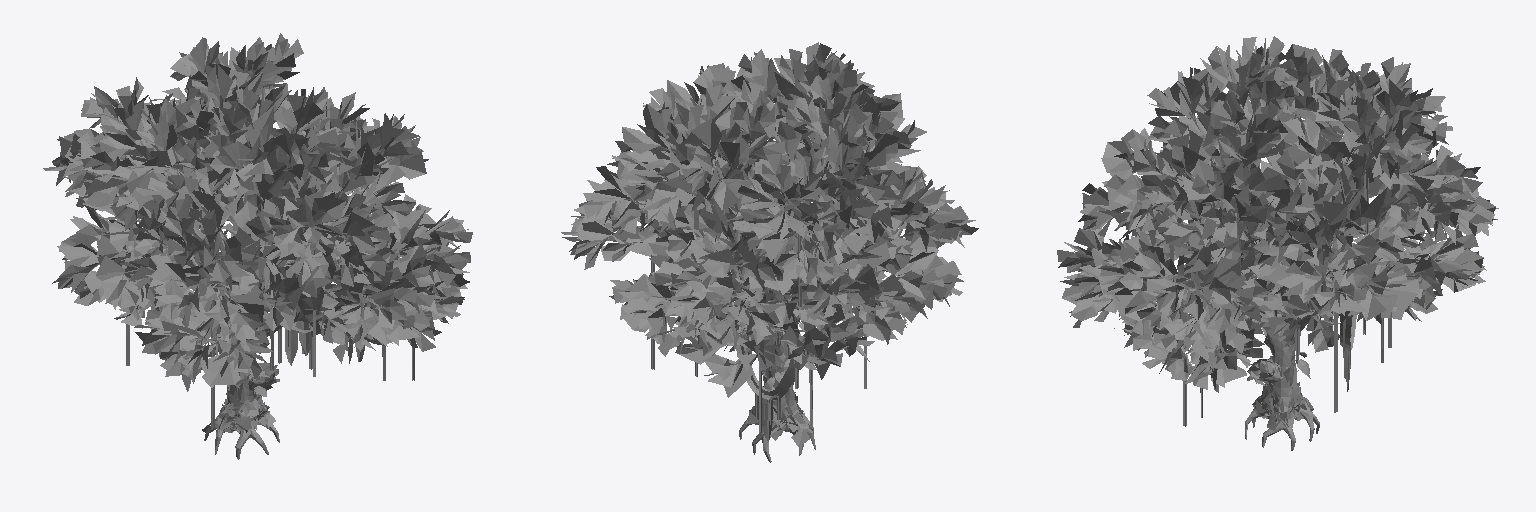
File: Arbol1.obj
The picture shows the model from 3 angles: view 1: azimuth 30°, elevation 25°; view 2: azimuth 150°, elevation 25°; view 3: azimuth 270°, elevation 25°; orthographic projection.
Visible parts, largest first — view 1: TreeGen; view 2: TreeGen; view 3: TreeGen.
Boxes of the visible parts, box(x1,y1,x2,y2) form: TreeGen: box(43, 33, 472, 459); TreeGen: box(561, 42, 978, 462); TreeGen: box(1057, 36, 1498, 450).
Size of the model in its own units: 2113 by 2248 by 2406.